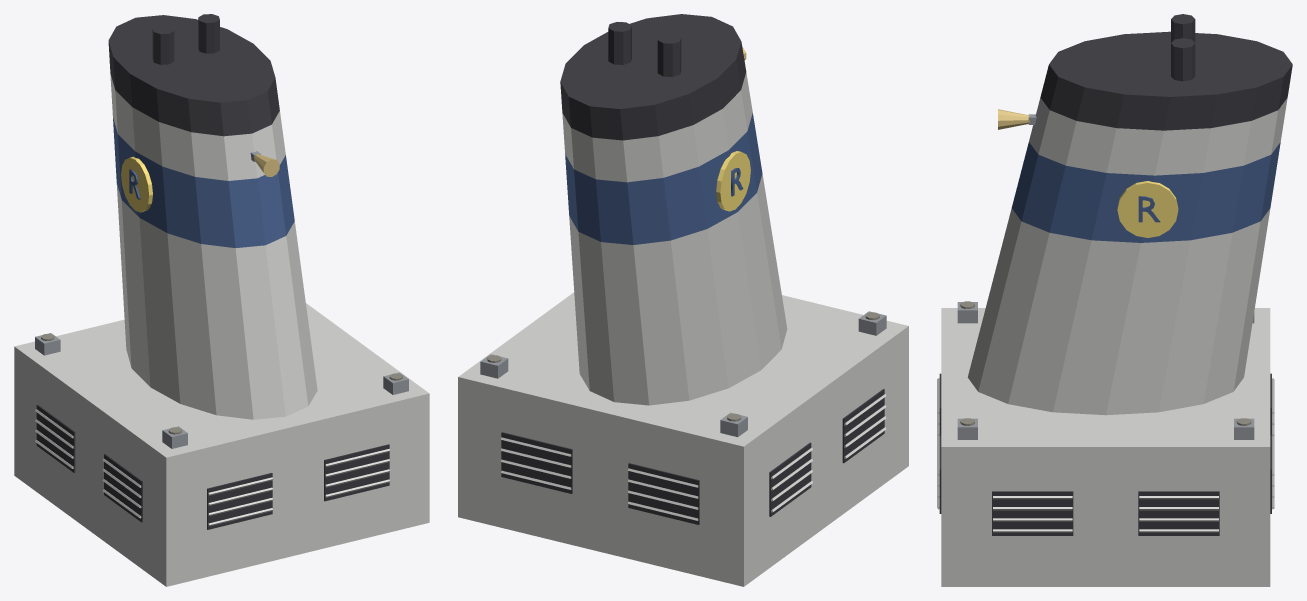
File: CR_Chimenea.fbx
3 renders of one model, left to right at view 1: azimuth 30°, elevation 25°; view 2: azimuth 150°, elevation 25°; view 3: azimuth 270°, elevation 25°, orthographic. The views are drawn at different scales.
Visible parts, largest first — view 1: CR_Chimenea; view 2: CR_Chimenea; view 3: CR_Chimenea.
Boxes of the visible parts, <box> form: CR_Chimenea: <box>14,14,429,586</box>; CR_Chimenea: <box>458,14,908,586</box>; CR_Chimenea: <box>937,14,1292,586</box>.
Size of the model in its own units: 8.3 by 13.2 by 8.75.
